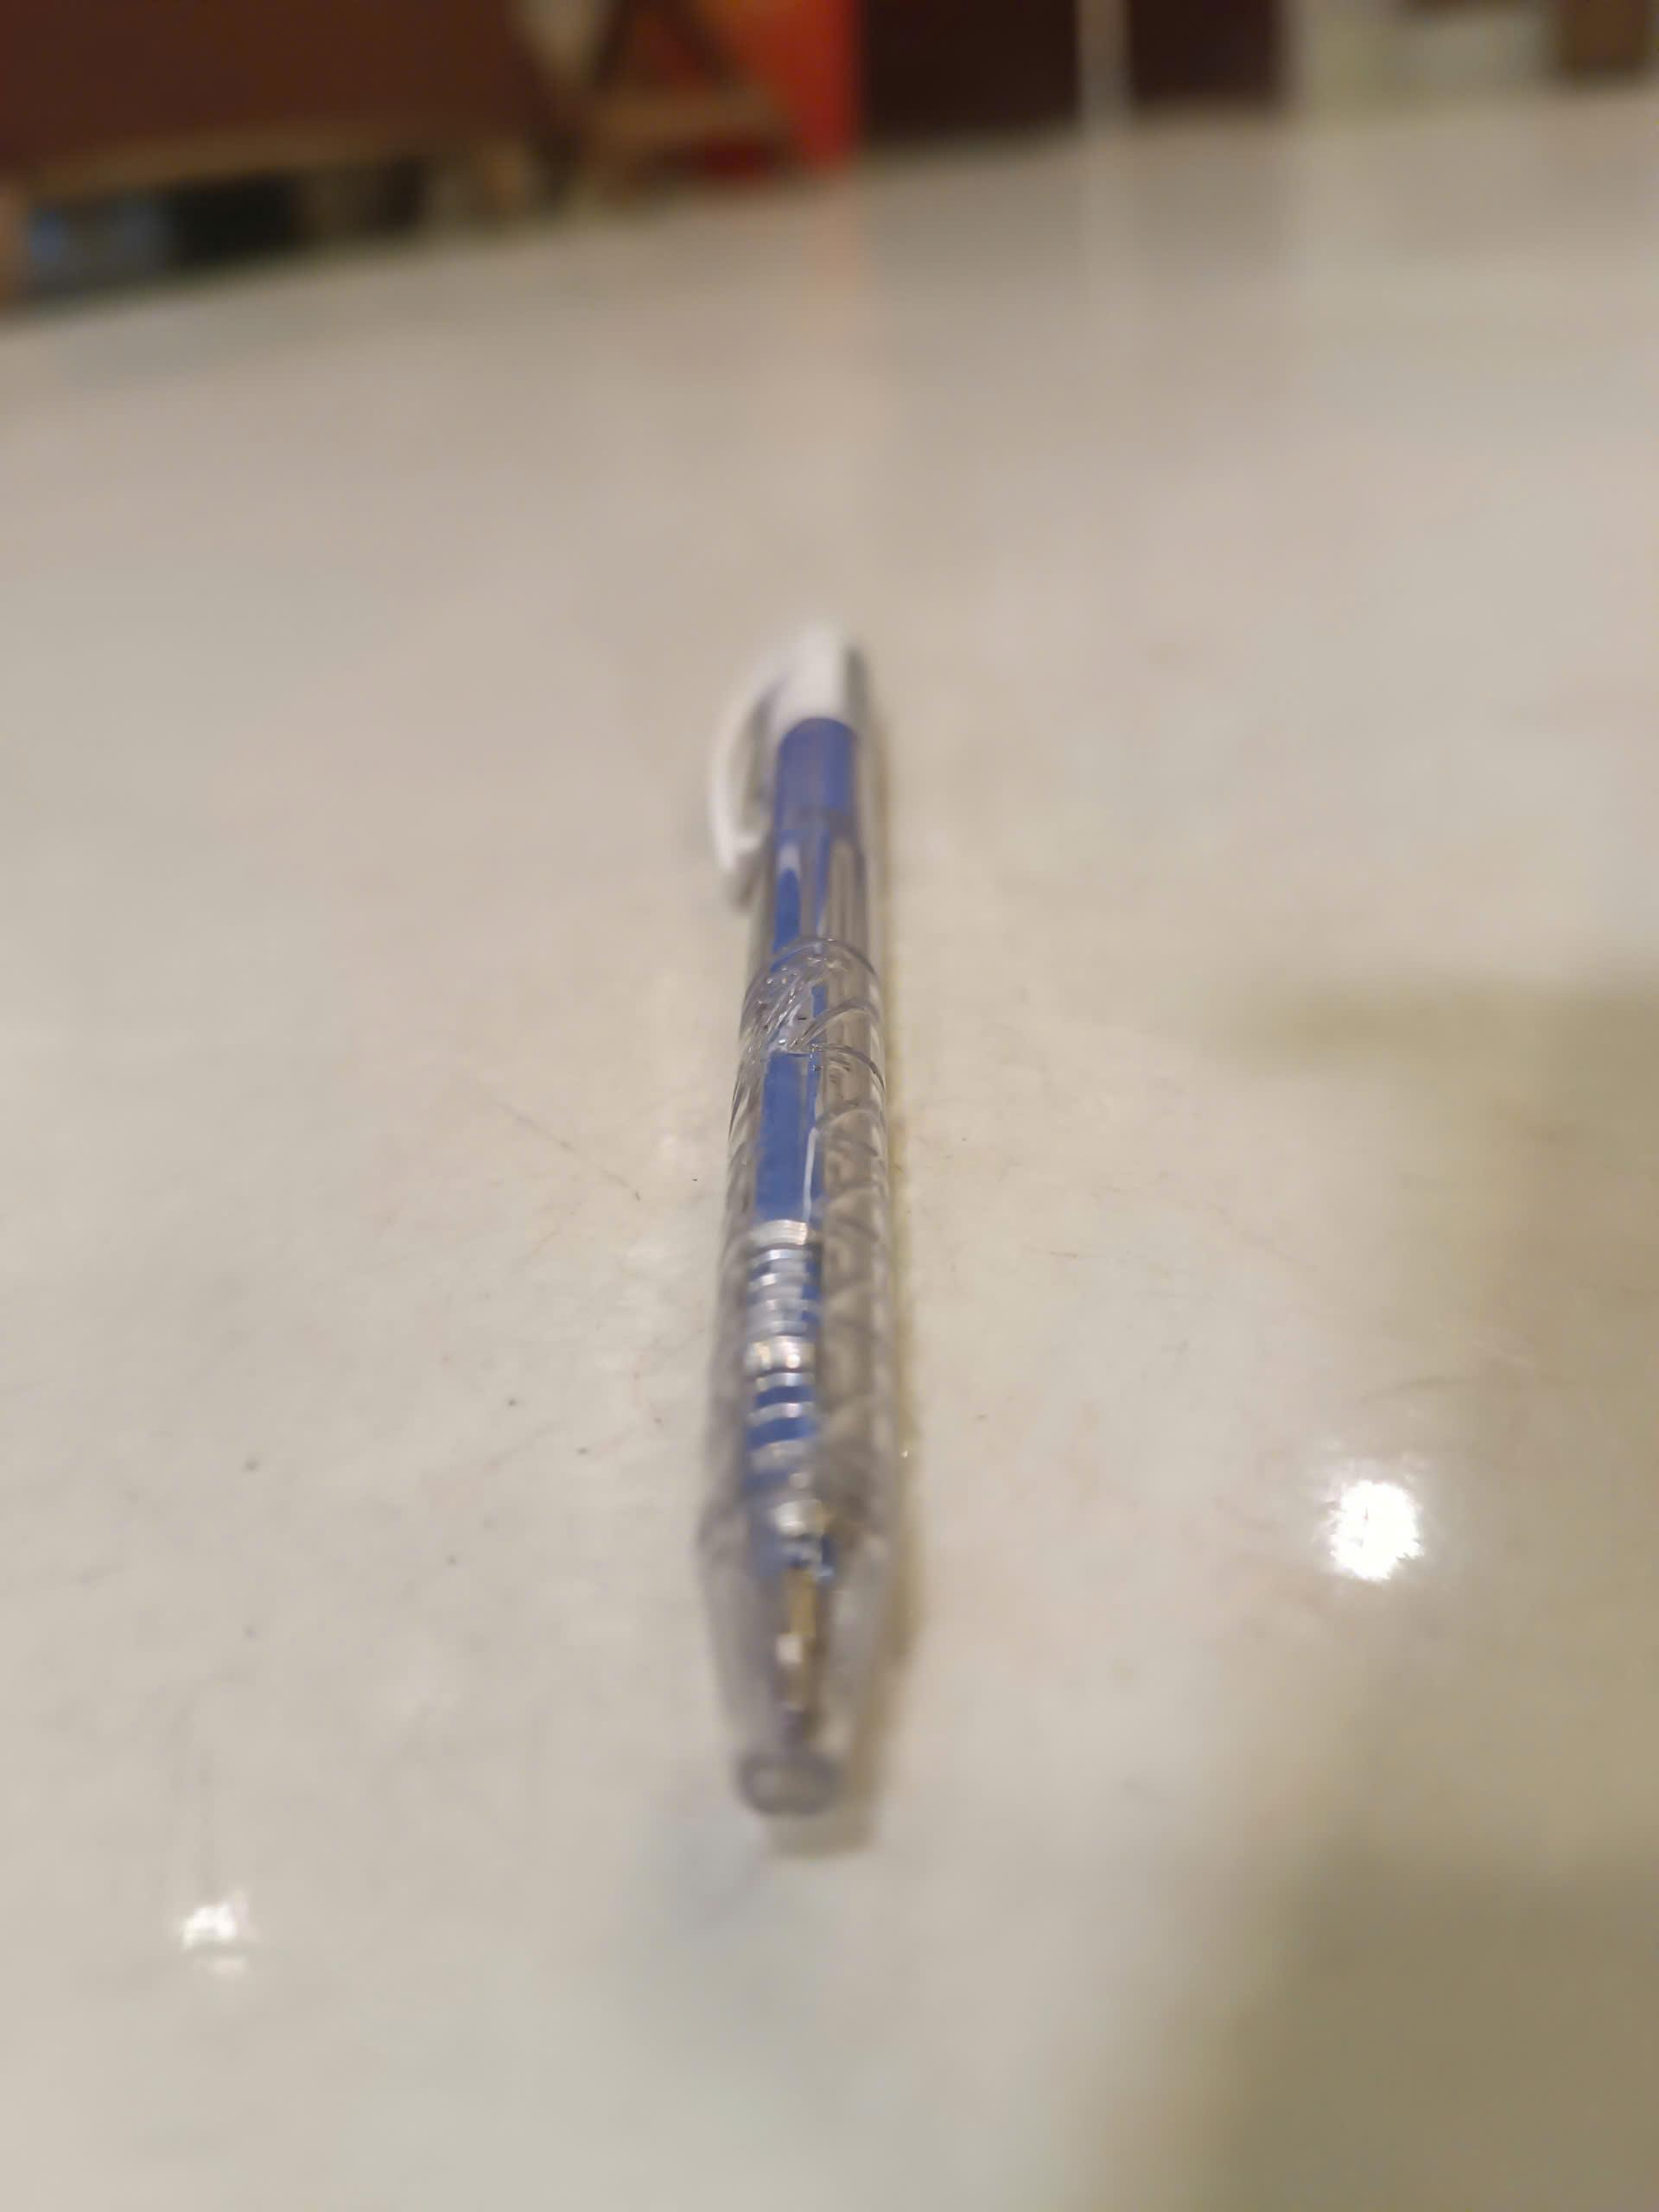Con lai: (692, 610, 913, 1822)
